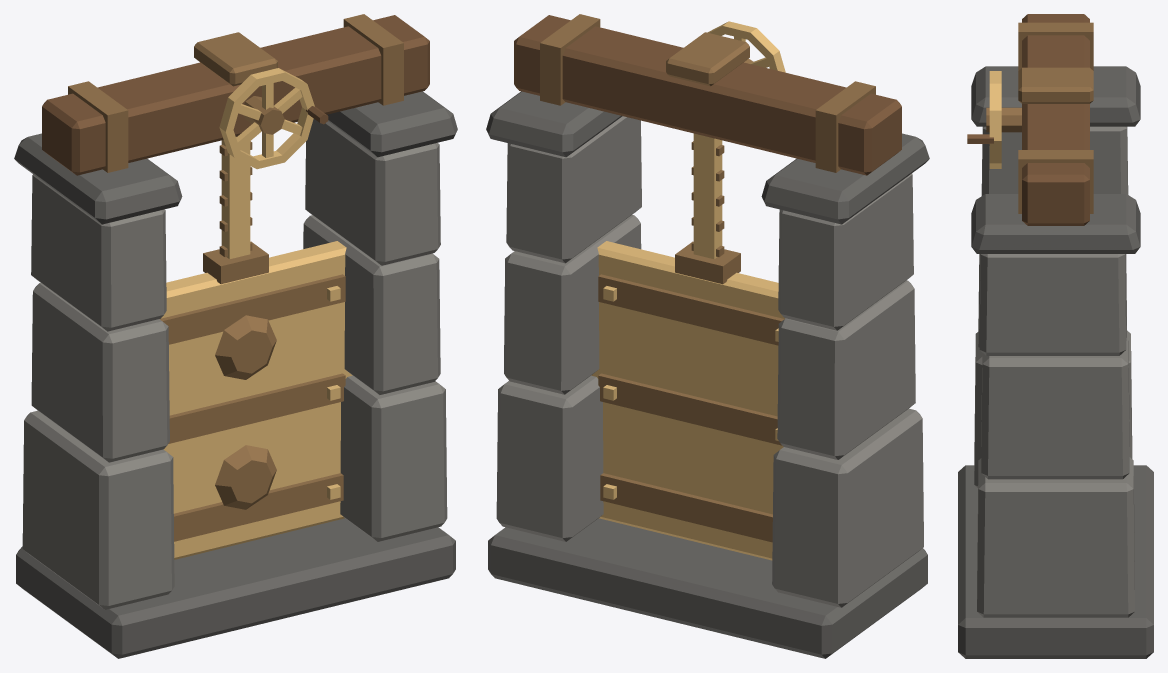
The model's file is floodgate.glb.
3 views of the same model, side by side, from view 1: azimuth 30°, elevation 25°; view 2: azimuth 150°, elevation 25°; view 3: azimuth 270°, elevation 25° (orthographic). The views are drawn at different scales.
Visible parts, largest first — view 1: pillar_l, pillar_r, gate, base_sill, lintel_beam, pillar_cap_l, pillar_cap_r, hand_wheel, gate_boss, gate_boss_lower, gate_rack, rack_guide (+5 smaller); view 2: pillar_l, gate, pillar_r, base_sill, lintel_beam, pillar_cap_l, pillar_cap_r, gate_rack, rack_guide, beam_strap_l, beam_strap_r, gate_lift_lug (+1 smaller); view 3: pillar_r, base_sill, lintel_beam, pillar_cap_r, pillar_l, pillar_cap_l, rack_guide, beam_strap_r, beam_strap_l, hand_wheel, axle_boss.
Part boxes in pixels (box(x1,y1,x2,y2)): pillar_l: box(22, 174, 174, 609); pillar_r: box(303, 119, 447, 541); gate: box(159, 241, 352, 559); base_sill: box(16, 518, 455, 658); lintel_beam: box(42, 15, 429, 175); pillar_cap_l: box(14, 133, 182, 224); pillar_cap_r: box(327, 91, 457, 157); hand_wheel: box(219, 68, 314, 169); gate_boss: box(215, 315, 276, 379); gate_boss_lower: box(215, 445, 276, 509); gate_rack: box(221, 136, 250, 259); rack_guide: box(194, 32, 277, 86); pillar_l: box(772, 173, 923, 607); gate: box(591, 241, 785, 560); pillar_r: box(496, 116, 641, 541); base_sill: box(488, 518, 927, 658); lintel_beam: box(514, 15, 901, 175); pillar_cap_l: box(761, 133, 929, 224); pillar_cap_r: box(486, 91, 622, 157); gate_rack: box(693, 133, 722, 259); rack_guide: box(666, 32, 749, 86); beam_strap_l: box(815, 81, 875, 172); beam_strap_r: box(540, 14, 600, 105); gate_lift_lug: box(675, 241, 740, 284); pillar_r: box(977, 254, 1134, 617); base_sill: box(958, 465, 1153, 658); lintel_beam: box(1022, 14, 1089, 225); pillar_cap_r: box(971, 194, 1140, 253); pillar_l: box(974, 126, 1132, 487); pillar_cap_l: box(971, 66, 1140, 126); rack_guide: box(1018, 67, 1093, 103); beam_strap_r: box(1018, 150, 1093, 213); beam_strap_l: box(1018, 22, 1093, 70); hand_wheel: box(989, 71, 1001, 168); axle_boss: box(1003, 107, 1021, 132).
Size of what is drawn, in the model's own units: 1.05 by 1.48 by 0.52.
